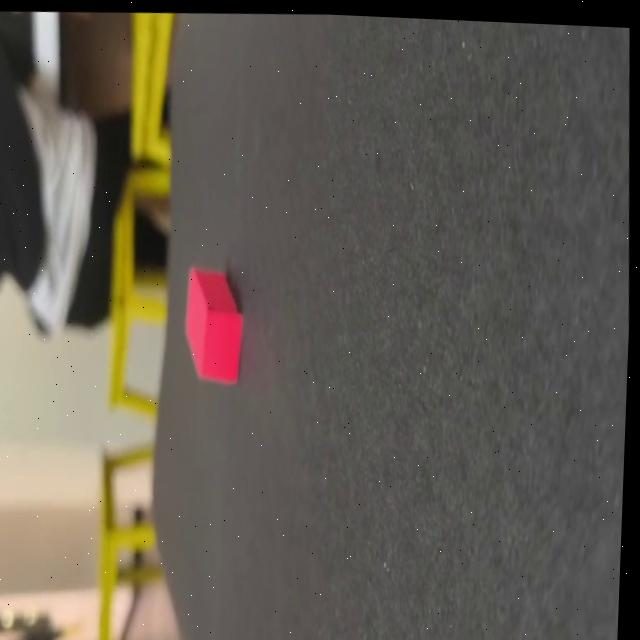red block: (178, 264, 246, 386)
